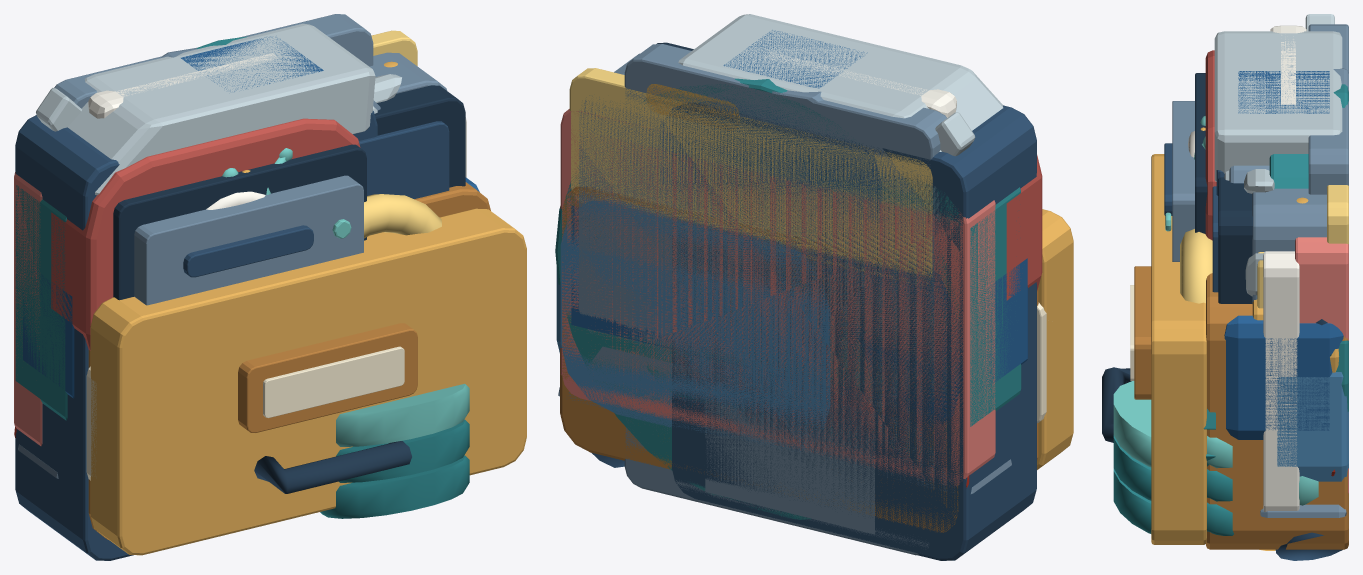
The model's file is icons.glb.
3 views of the same model, side by side, from view 1: azimuth 30°, elevation 25°; view 2: azimuth 150°, elevation 25°; view 3: azimuth 270°, elevation 25° (orthographic). The views are drawn at different scales.
Parts seen in each view (by area): view 1: archive, repository, qa, workstation, dataSearch, plan, plus, workflow, tools; view 2: repository, plan, archive, qa, workstation, llm, workflow, python, dataSearch, category, plus, laptop (+1 smaller); view 3: archive, repository, plus, plan, workstation, qa, workflow, category, dataSearch, tools, laptop, lens (+3 smaller).
Boxes of the visible parts, x1=… form: archive: x1=88, y1=30, x2=526, y2=555; repository: x1=15, y1=23, x2=469, y2=560; qa: x1=51, y1=118, x2=360, y2=350; workstation: x1=86, y1=52, x2=465, y2=480; dataSearch: x1=15, y1=185, x2=441, y2=420; plan: x1=14, y1=117, x2=466, y2=446; plus: x1=23, y1=36, x2=479, y2=398; workflow: x1=54, y1=14, x2=373, y2=118; tools: x1=36, y1=74, x2=401, y2=131; repository: x1=672, y1=14, x2=1036, y2=560; plan: x1=560, y1=109, x2=995, y2=486; archive: x1=560, y1=68, x2=1073, y2=532; qa: x1=556, y1=155, x2=1042, y2=451; workstation: x1=579, y1=42, x2=1046, y2=423; llm: x1=592, y1=88, x2=944, y2=534; workflow: x1=624, y1=44, x2=956, y2=555; python: x1=658, y1=100, x2=962, y2=431; dataSearch: x1=642, y1=123, x2=1021, y2=454; category: x1=555, y1=78, x2=962, y2=519; plus: x1=571, y1=30, x2=1027, y2=428; laptop: x1=558, y1=346, x2=1011, y2=493; archive: x1=1102, y1=154, x2=1348, y2=549; repository: x1=1113, y1=31, x2=1342, y2=535; plus: x1=1224, y1=71, x2=1343, y2=439; plan: x1=1263, y1=237, x2=1348, y2=511; workstation: x1=1203, y1=177, x2=1326, y2=466; qa: x1=1188, y1=50, x2=1348, y2=481; workflow: x1=1270, y1=24, x2=1348, y2=194; category: x1=1269, y1=84, x2=1348, y2=411; dataSearch: x1=1180, y1=229, x2=1212, y2=303; tools: x1=1244, y1=14, x2=1334, y2=550; laptop: x1=1260, y1=504, x2=1346, y2=517; lens: x1=1275, y1=532, x2=1342, y2=560.
Size of the model in its own units: 1 by 1 by 0.5618.
